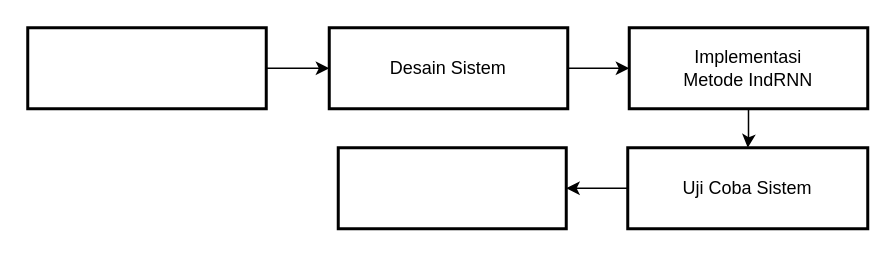
This 894x255 diagram has some shape labels left out. The shapes that lost their labels are listed below. From the top down, each one's centre as x and y in pixels, then its label:
At point 146,68: "Pengumpulan Data".
At point 451,188: "Hasil Analisis".
